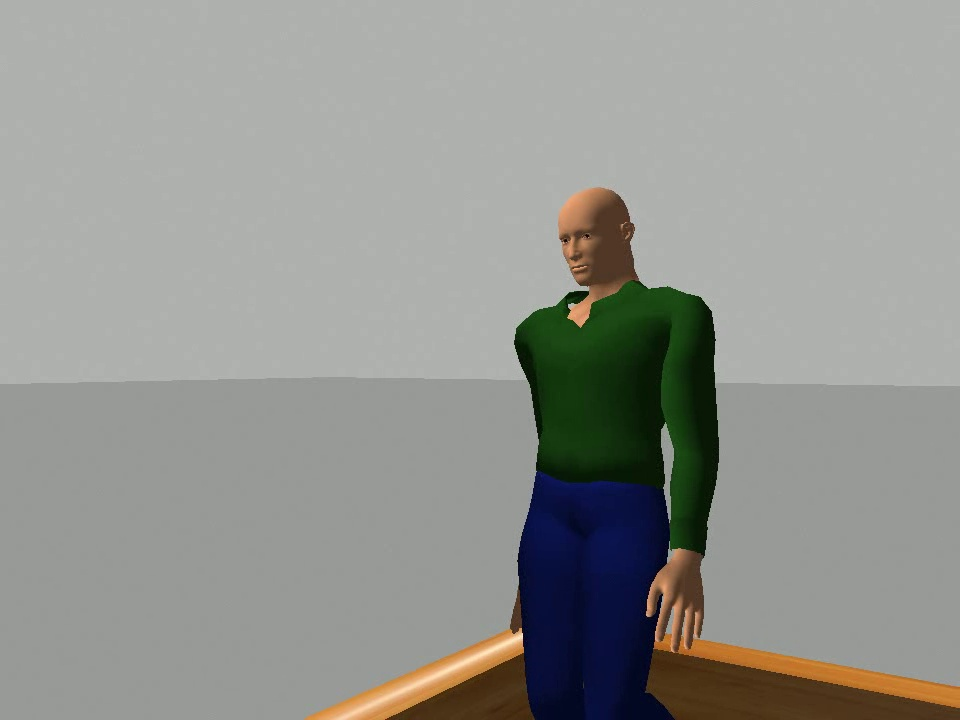person: (509, 183, 726, 720)
